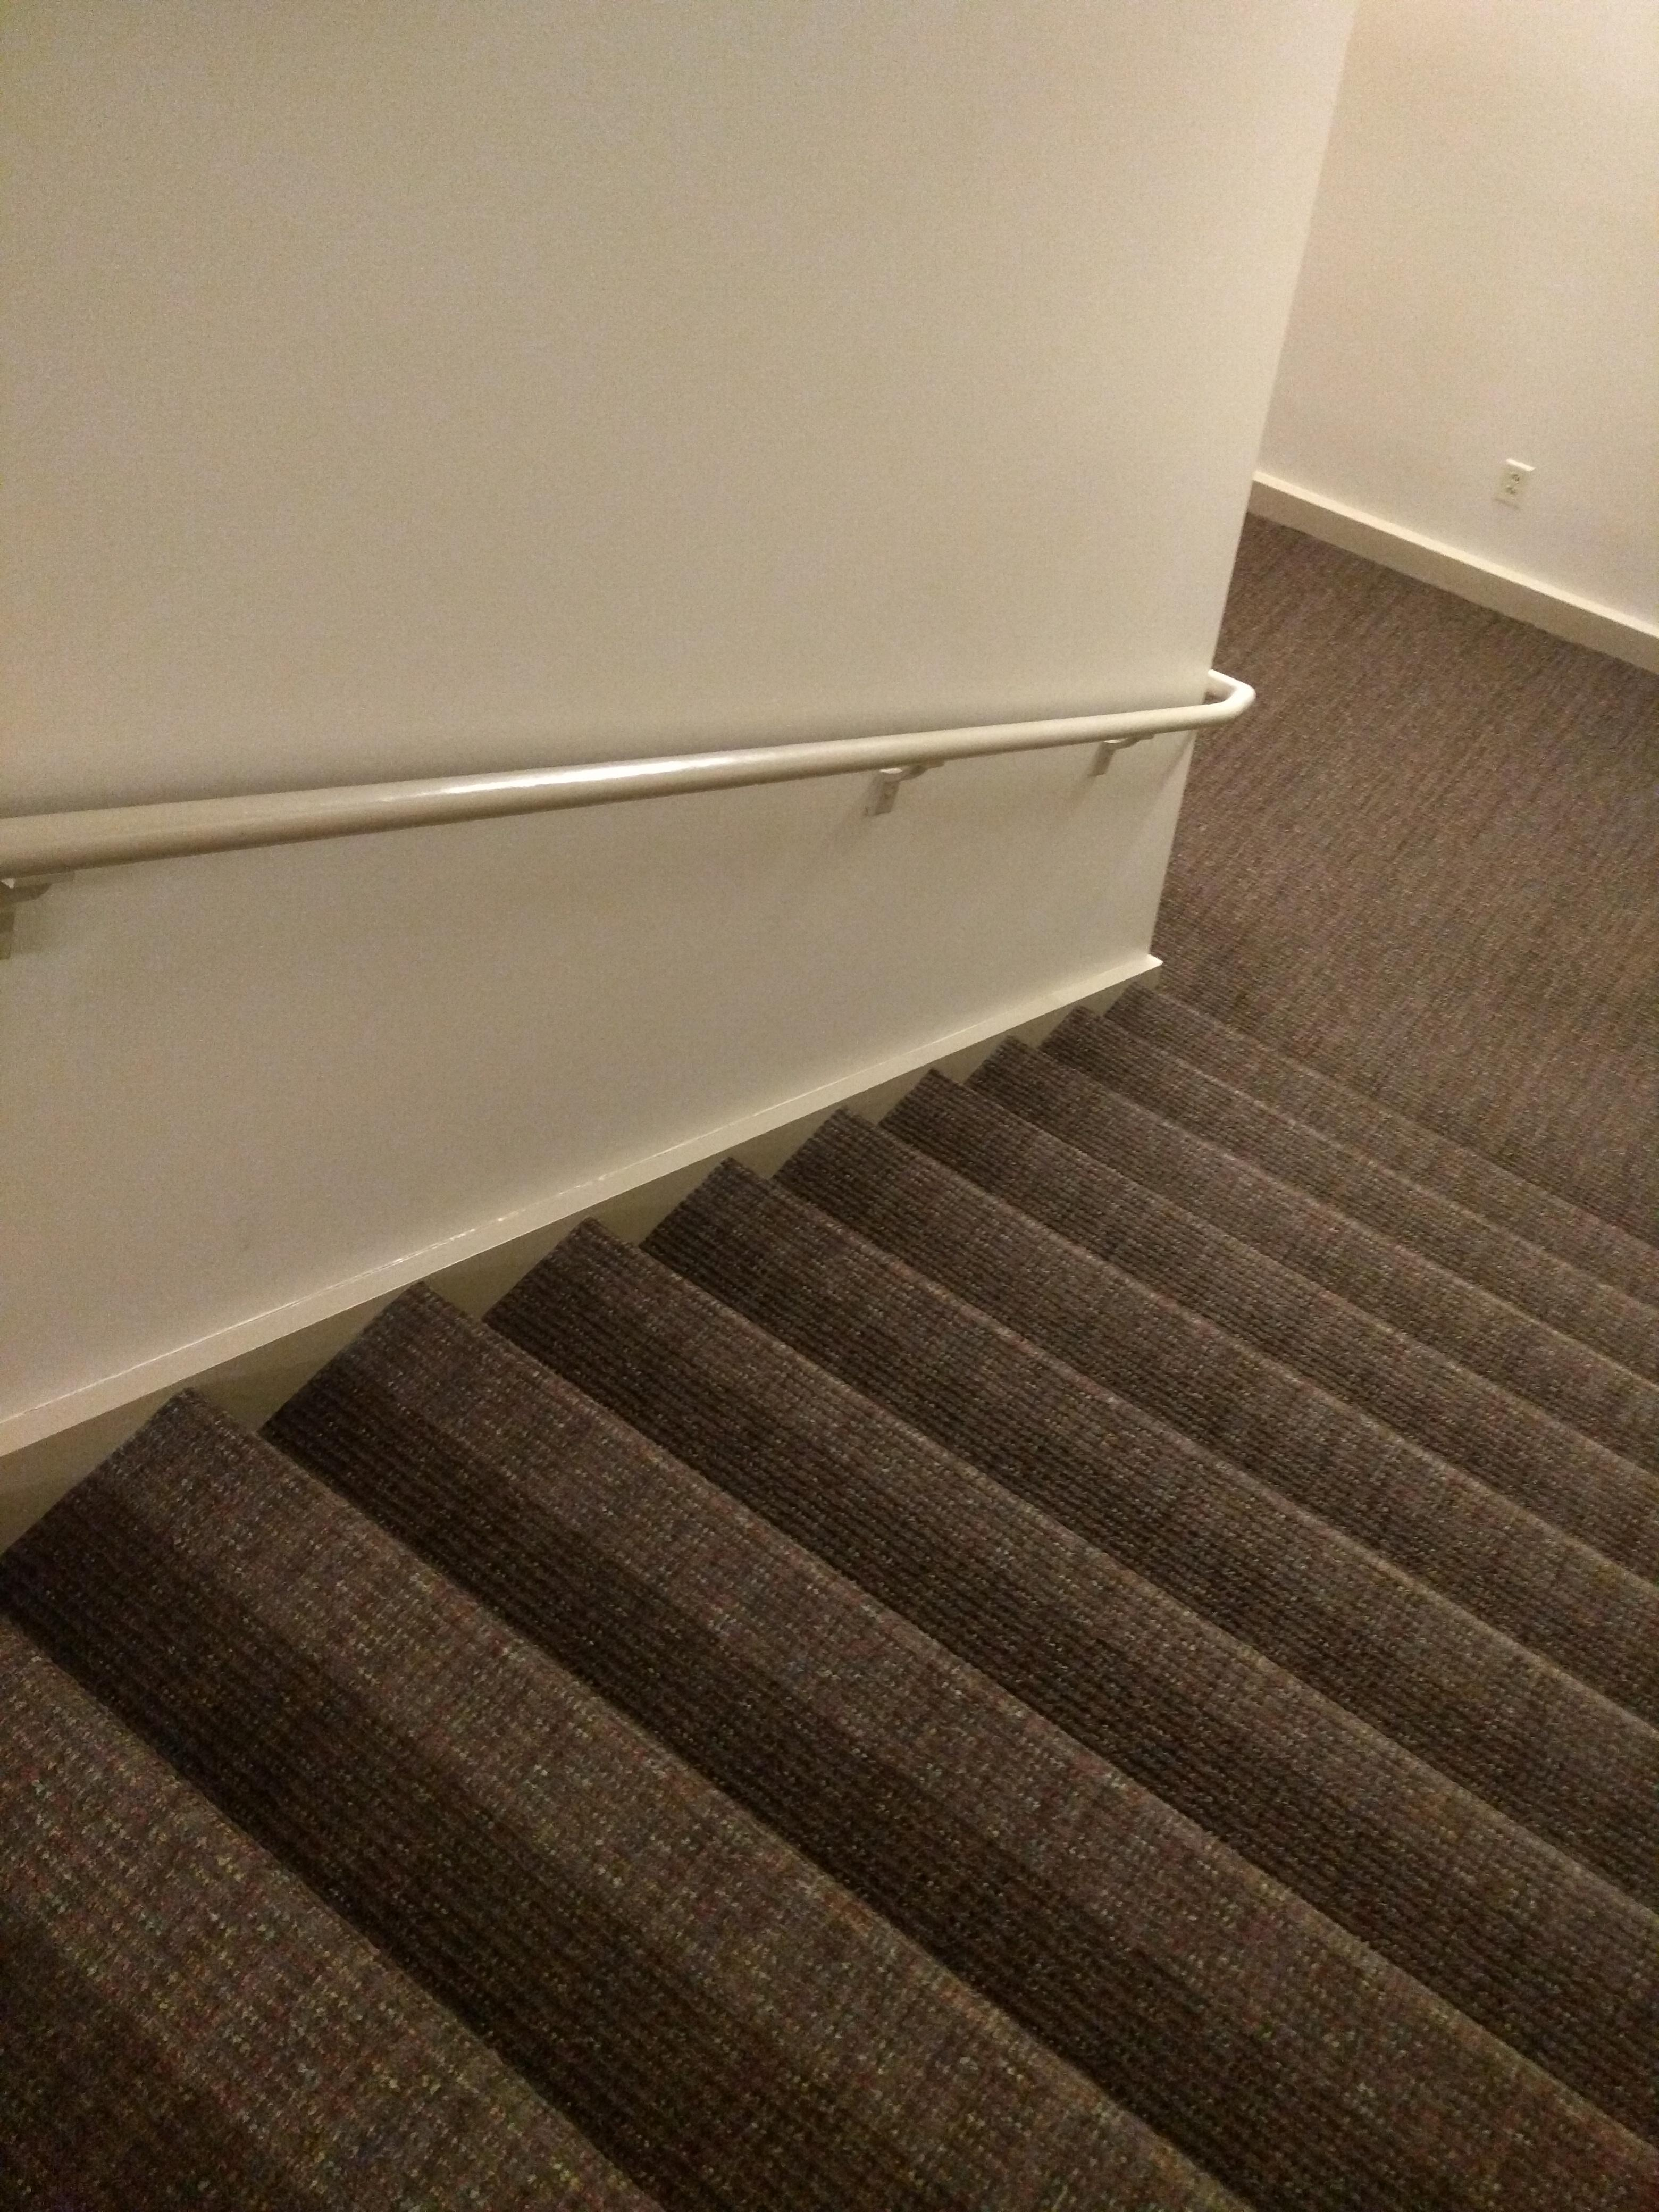stairs_down: (5, 1014, 1649, 2212)
